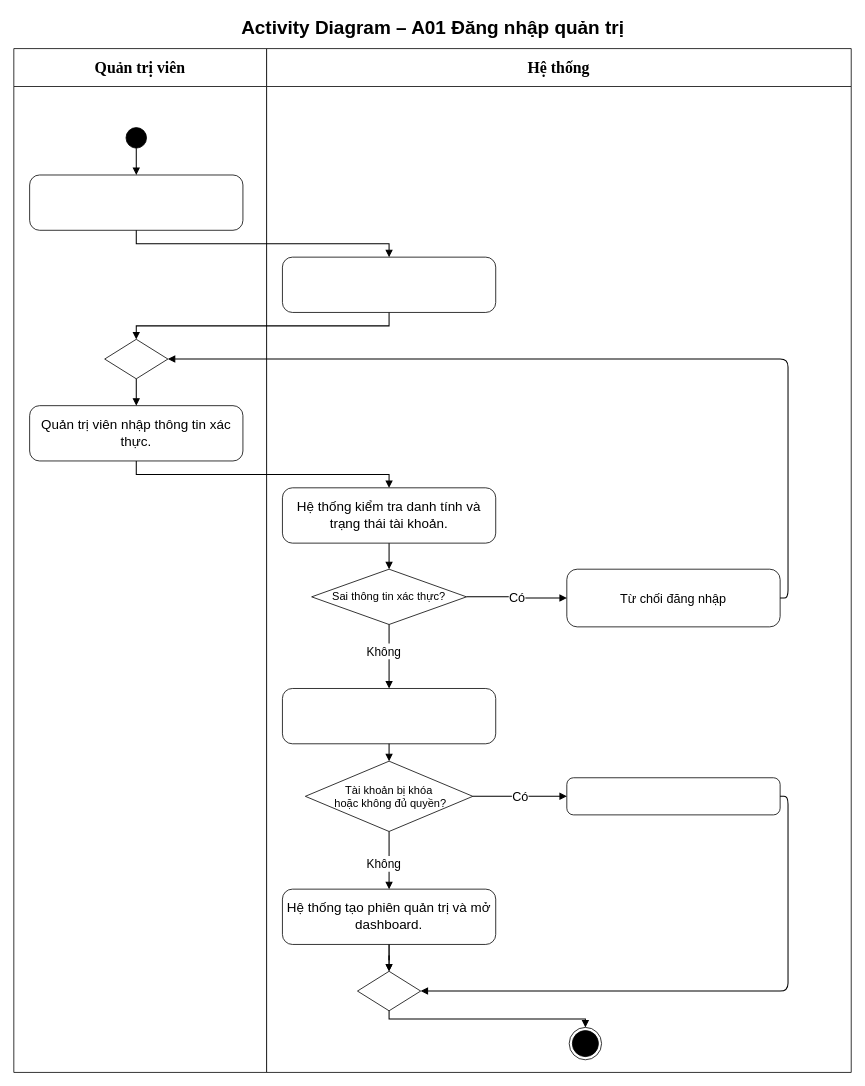
Some shapes in this 865 by 1086 pixel diagram are drawn without their labels. The shapes that lost their labels are listed below. From the top down, each one's centre as x and y in pixels, then its label:
point (136, 202): Quản trị viên mở cổng quản trị.
point (389, 284): Hệ thống hiển thị form đăng nhập.
point (389, 716): Hệ thống kiểm tra vai trò/quyền.
point (673, 796): Không tạo phiên
